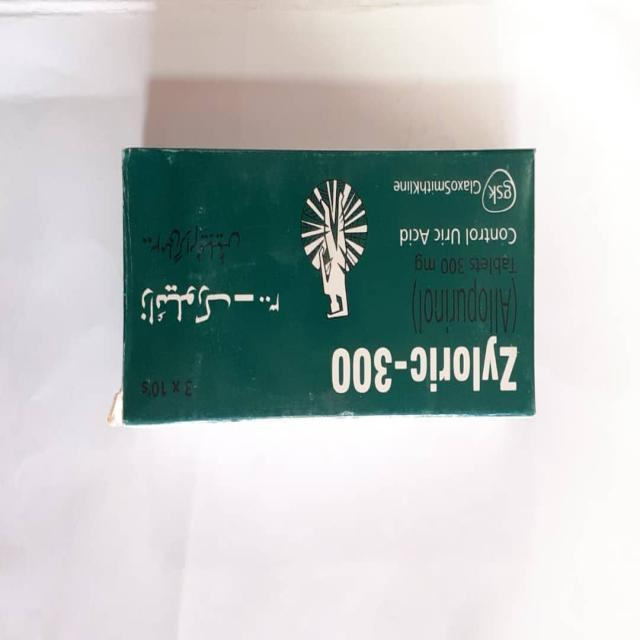drug-name: (326, 340, 525, 396)
